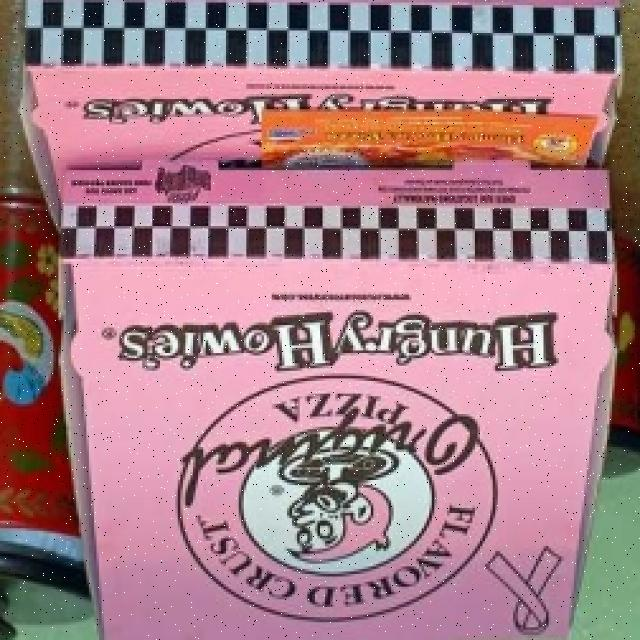box: (61, 175, 615, 640), (18, 0, 627, 193)
